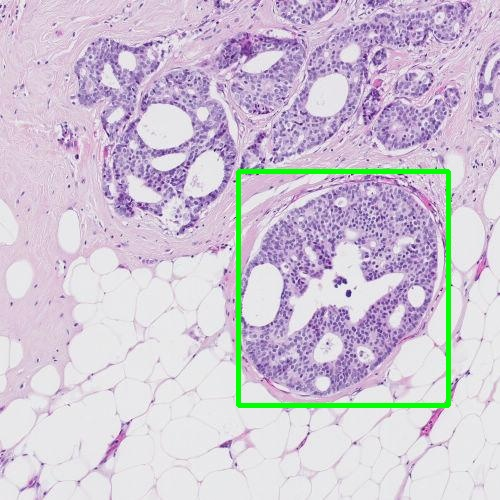DCIS: (238, 171, 448, 405)
